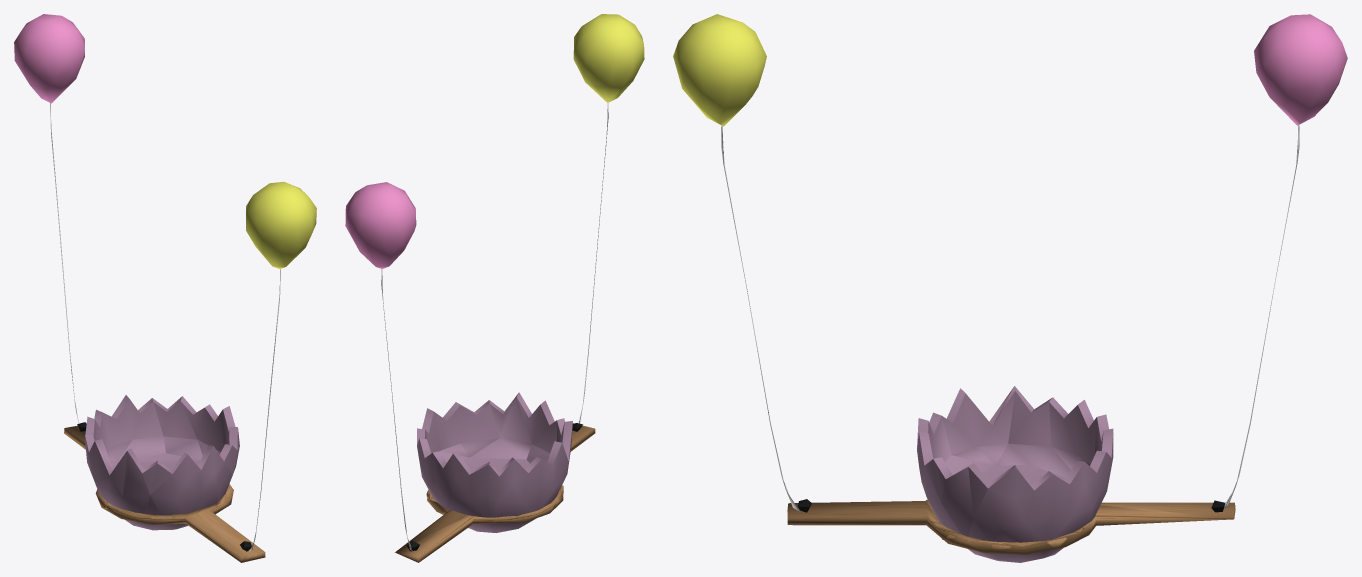
The model's file is NewTarget.fbx.
3 views of the same model, side by side, from view 1: azimuth 30°, elevation 25°; view 2: azimuth 150°, elevation 25°; view 3: azimuth 270°, elevation 25° (orthographic). The views are drawn at different scales.
Visible parts, largest first — view 1: Egg_ShallA.003, pink balloon, yellow balloon, Wood & threadd; view 2: Egg_ShallA.003, yellow balloon, pink balloon, Wood & threadd; view 3: Egg_ShallA.003, Wood & threadd, pink balloon, yellow balloon.
Boxes of the visible parts, x1,y1,x2,y2 form: Egg_ShallA.003: (85,395,239,530); pink balloon: (14,14,84,103); yellow balloon: (246,181,316,268); Wood & threadd: (50,103,280,562); Egg_ShallA.003: (417,392,572,532); yellow balloon: (573,14,644,102); pink balloon: (345,182,416,268); Wood & threadd: (381,103,608,562); Egg_ShallA.003: (917,386,1113,562); Wood & threadd: (721,125,1299,554); pink balloon: (1254,14,1347,125); yellow balloon: (673,14,766,126).
Size of the model in its own units: 431 by 1287 by 1474.
